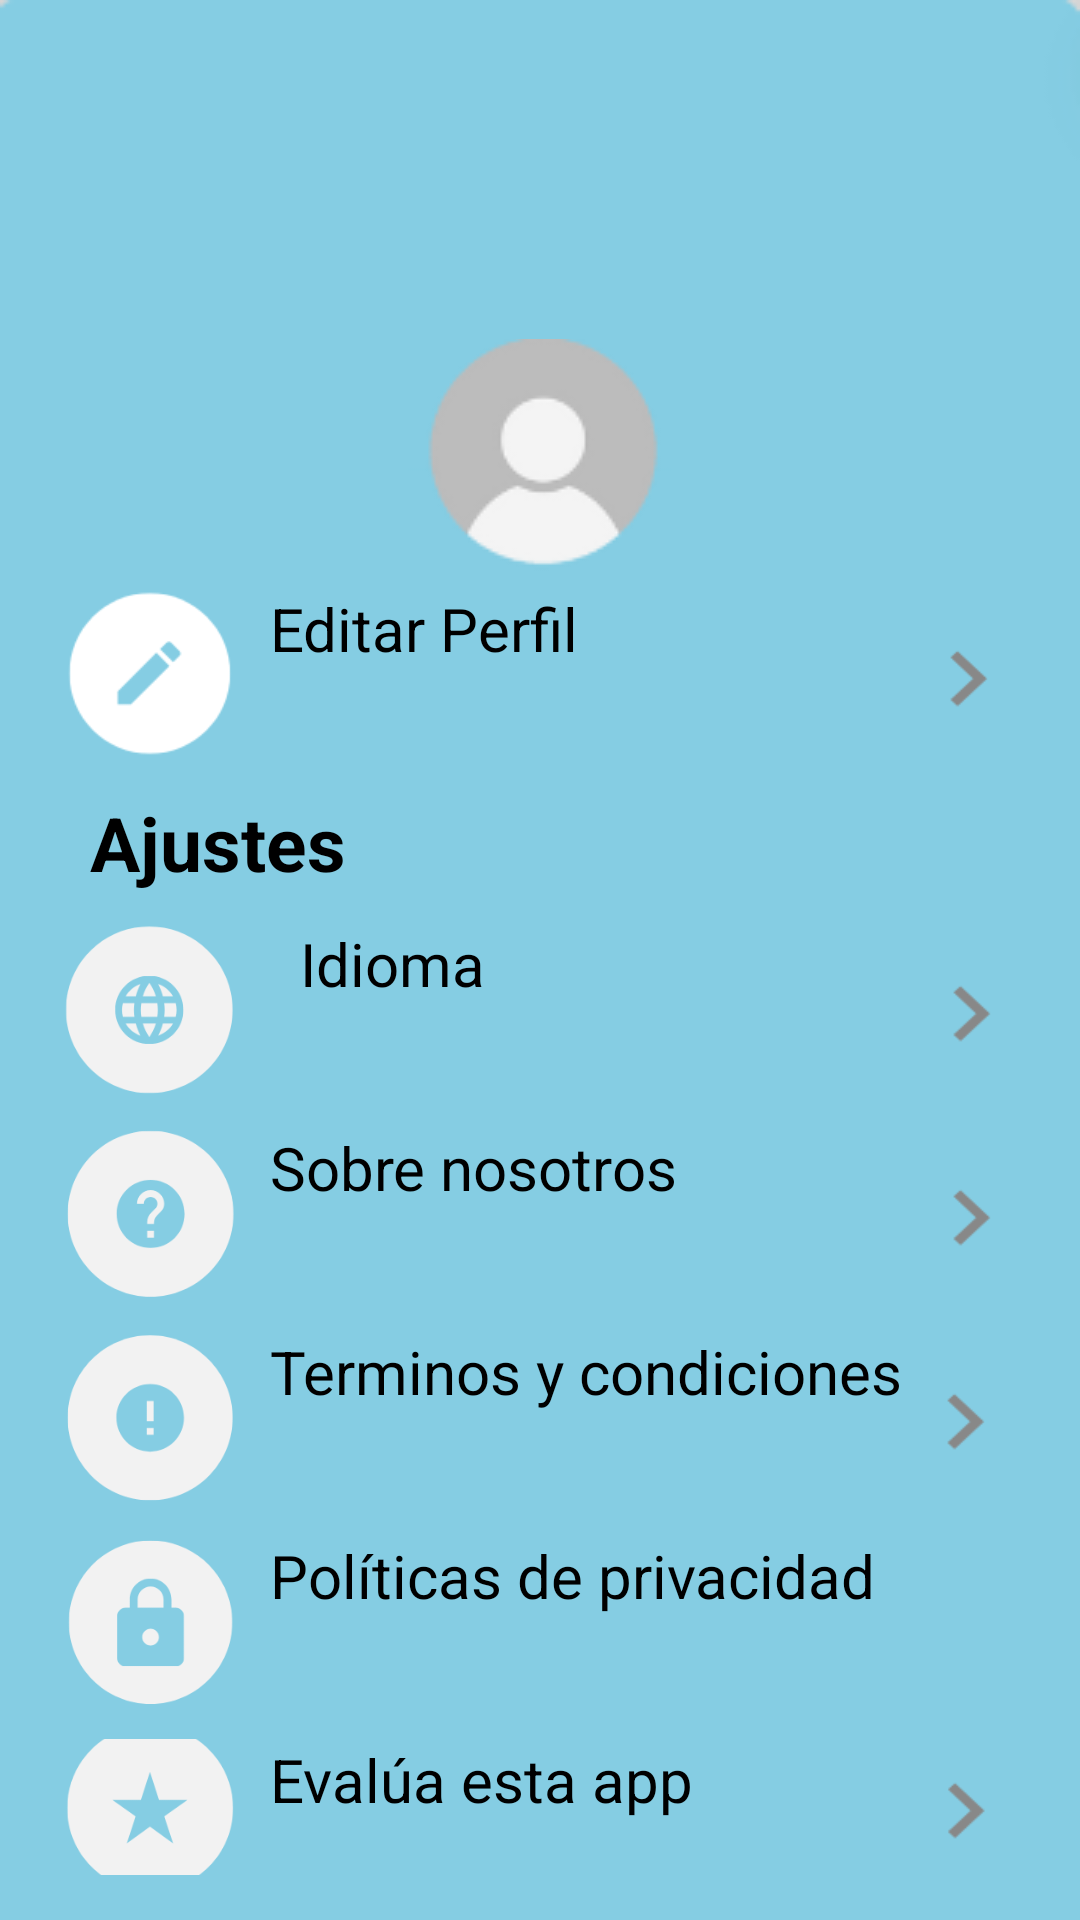

Locate icon controls on the screen. Image size 1080px x 1920px, boxes as (x1, y1, x2, y2).
planeta: (66, 926, 233, 1093)
politica: (69, 1541, 233, 1704)
